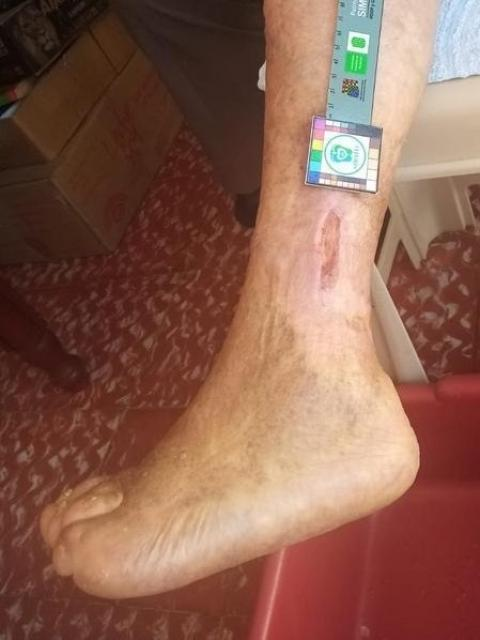wound: (318, 209, 343, 291)
